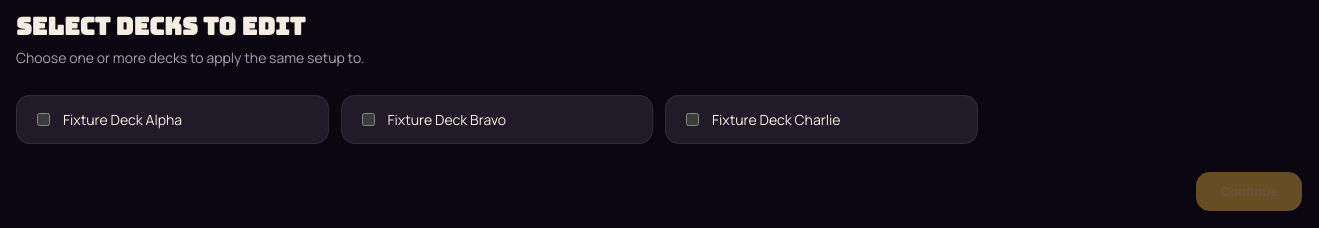
Test: BatchDecksScreen › keeps the continue action disabled until at least one deck is selected
Expected: the button "Continue" is disabled, [1196,172,1302,211]
Click the checkbox labelled "Fixture Deck Alpha": x=44, y=120 [37,113,50,126]
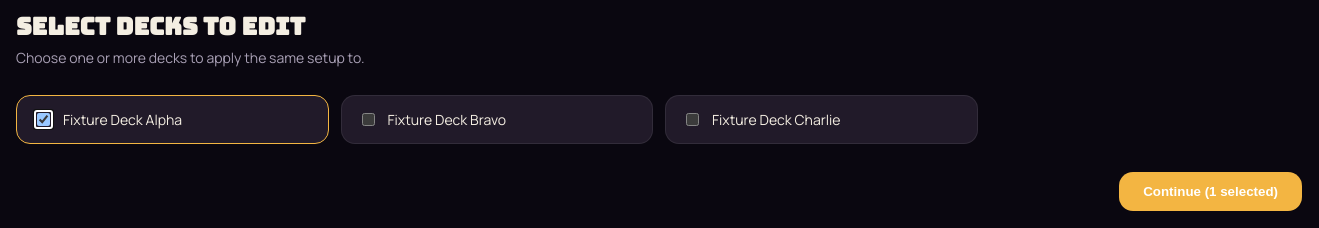
Now the button "Continue (1 selected)" is enabled, box [1119,172,1302,211]
